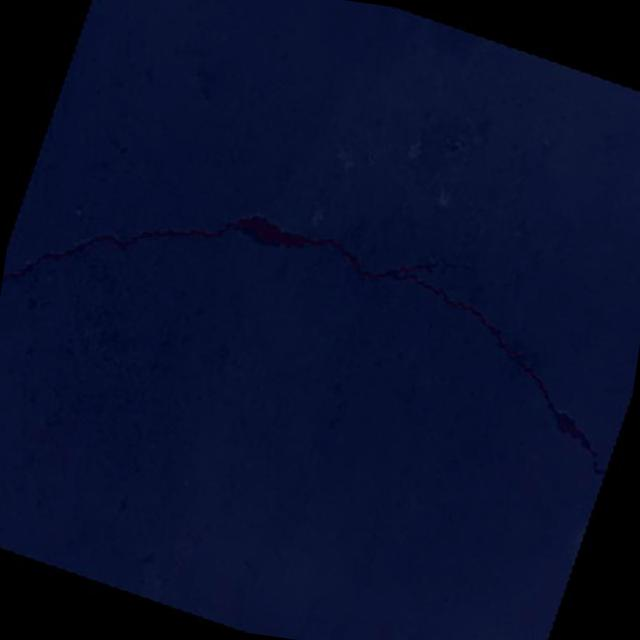crack: (0, 118, 640, 489)
